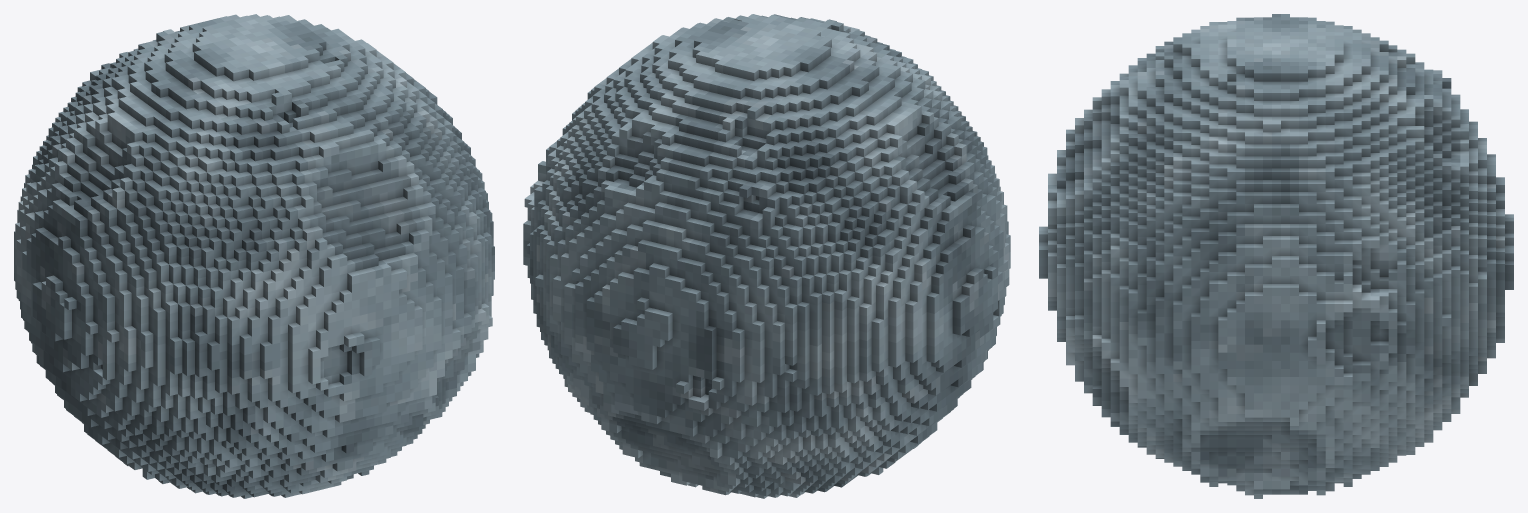
Rendered from mae_gelo_lod0.glb.
The picture shows the model from 3 angles, left to right: view 1: azimuth 30°, elevation 25°; view 2: azimuth 150°, elevation 25°; view 3: azimuth 270°, elevation 25°; orthographic projection.
Visible parts, largest first — view 1: mae_gelo_lod0; view 2: mae_gelo_lod0; view 3: mae_gelo_lod0.
Part boxes in pixels (x1,y1,x2,y2): mae_gelo_lod0: (14,14,494,498); mae_gelo_lod0: (523,14,1010,498); mae_gelo_lod0: (1039,14,1513,498).
Bounding box in the file's own units: 2.21 × 2.17 × 2.21.
